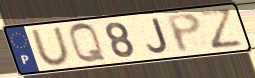8: (104, 21, 136, 59)
J: (145, 17, 170, 55)
P: (164, 11, 203, 55)
Q: (67, 22, 109, 66)
U: (29, 25, 74, 67)
Z: (197, 7, 247, 52)
